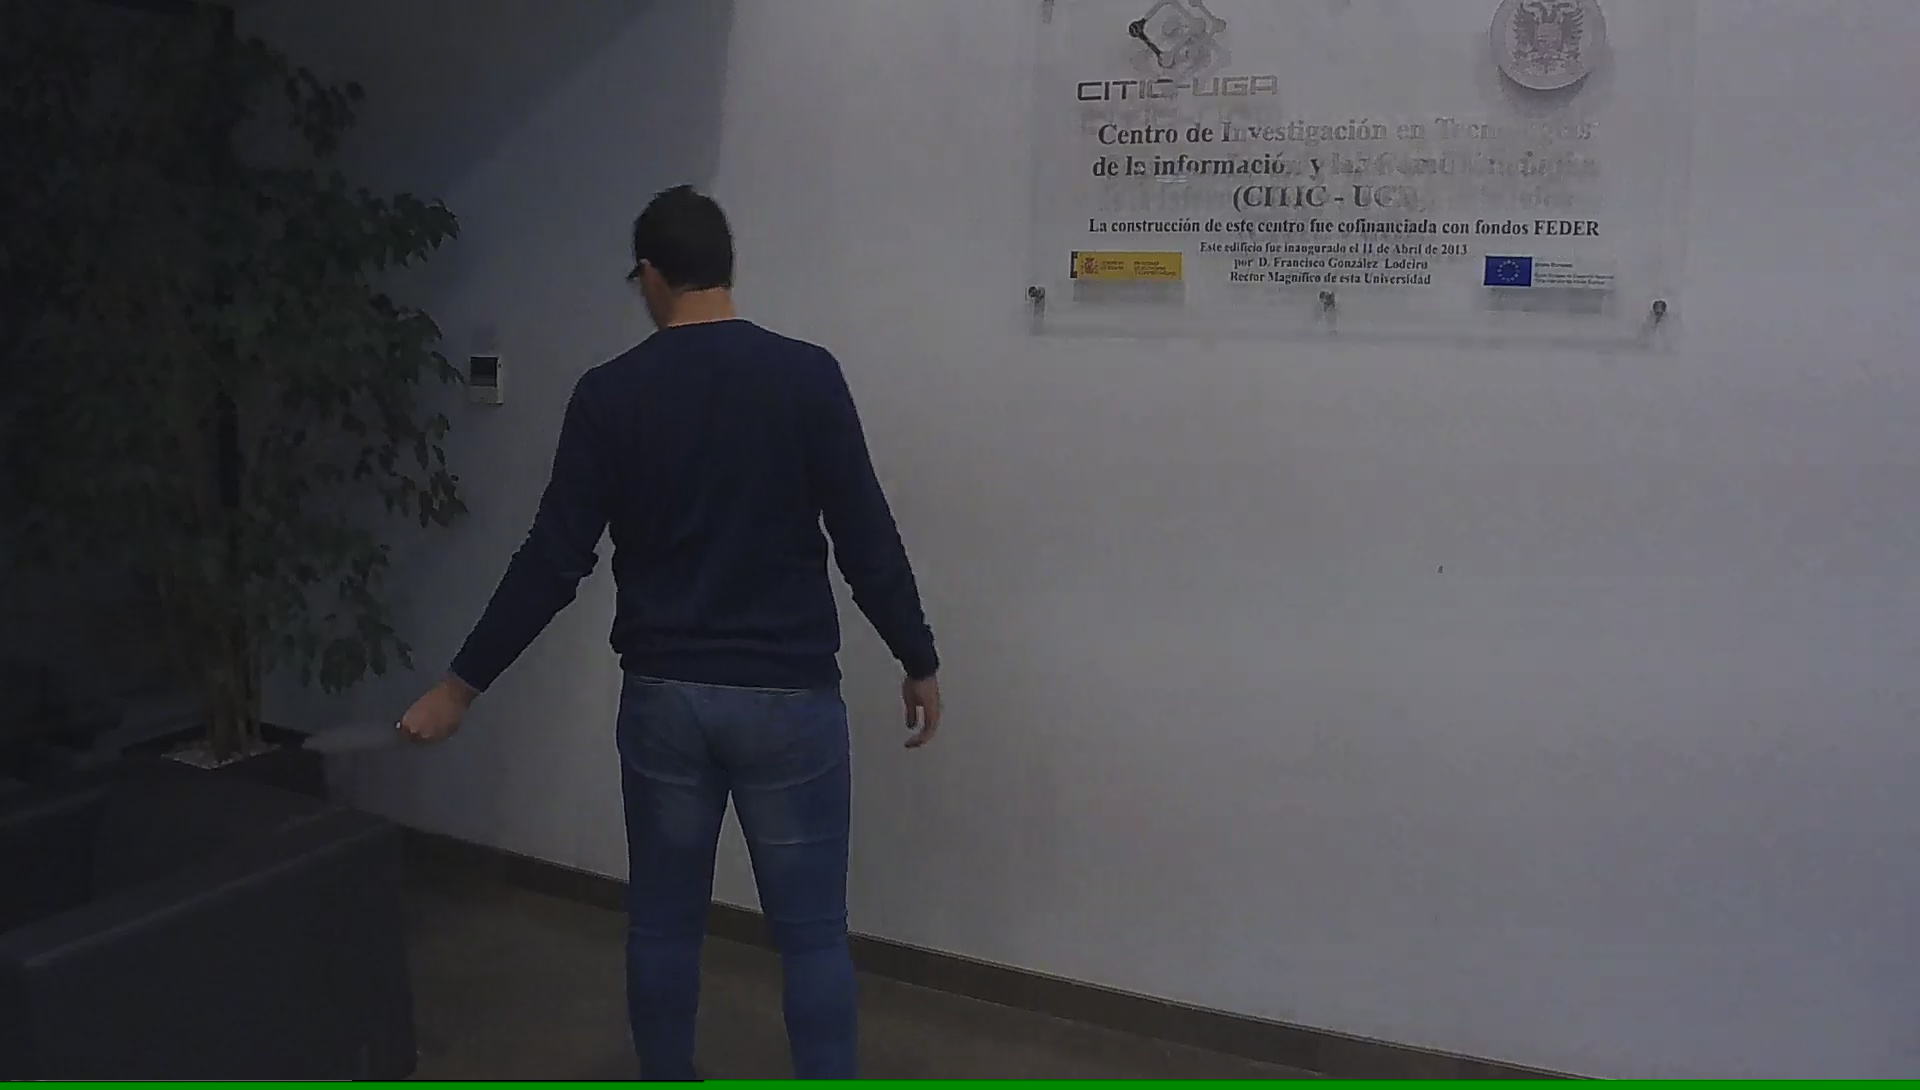knife: (291, 706, 467, 762)
